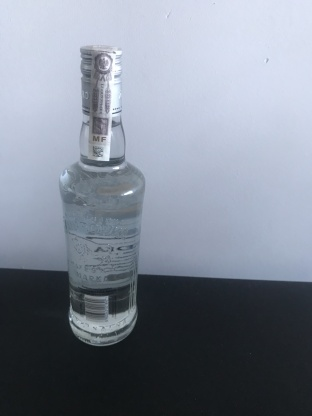nakretka: (76, 40, 126, 121)
